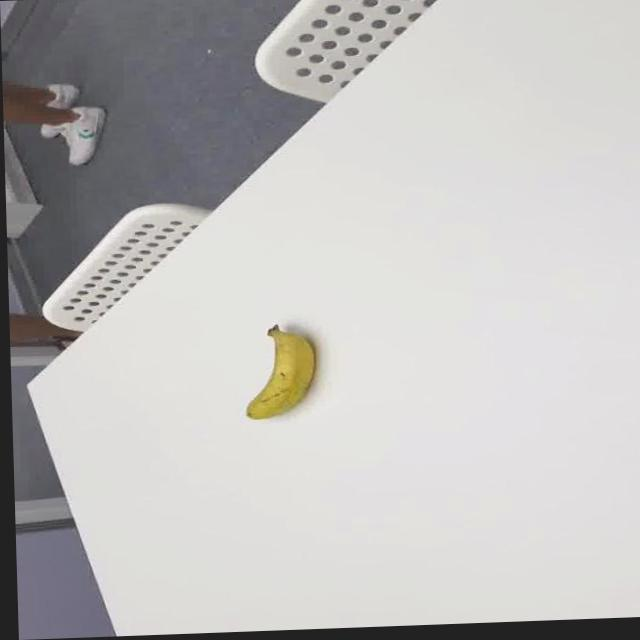banana: (244, 320, 317, 420)
